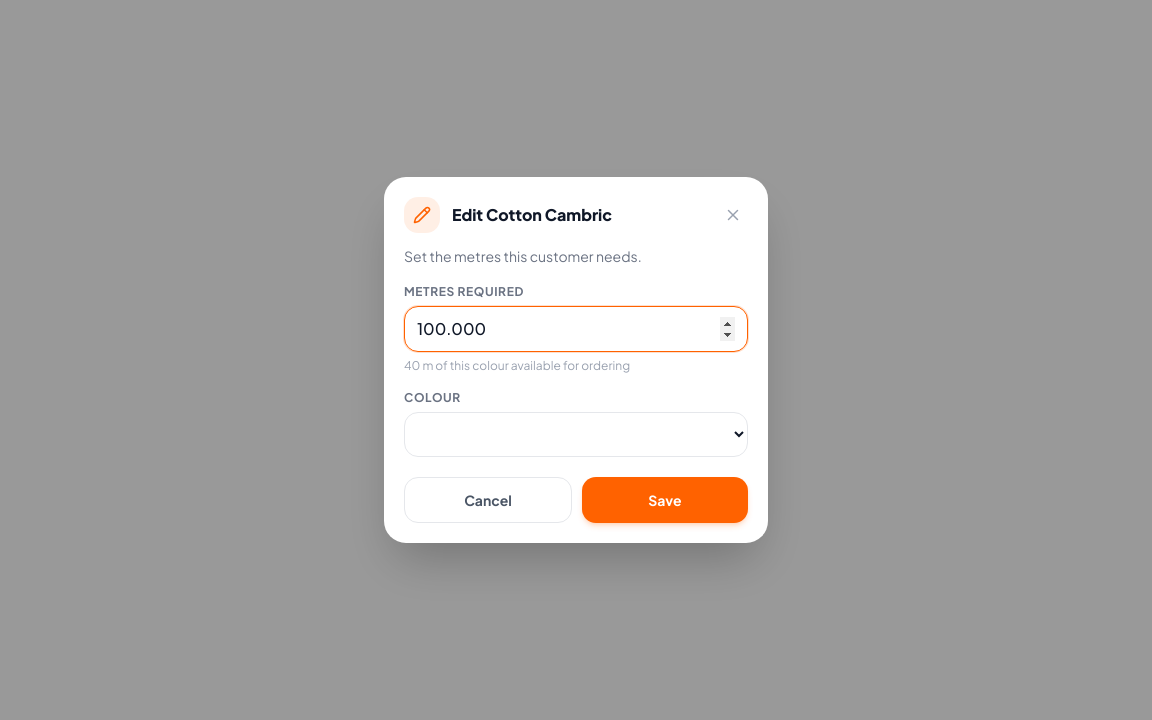
Test: order form availability warning › warns that the typed quantity takes it negative, without blocking
The image size is (1152, 720).
Replace the text in the number field labelled "Metres required" with "200": coordinates (576, 329) [404,306,748,352]
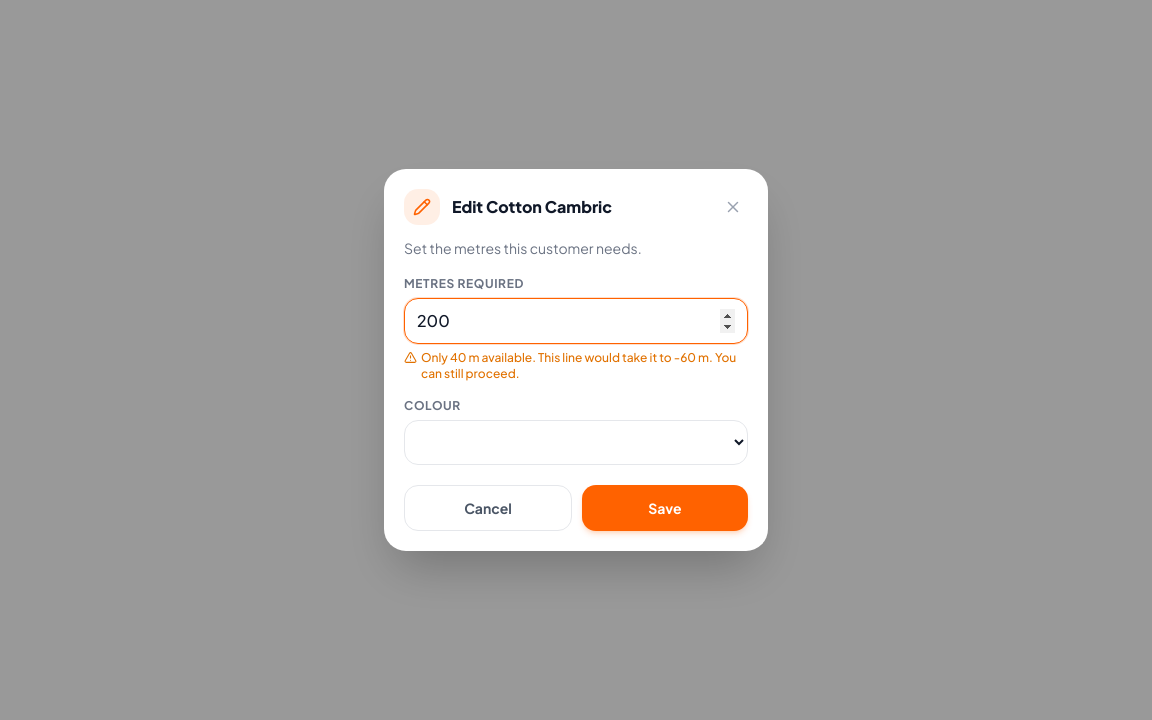
Check: the text "Only 40 m available" is shown, box [421,350,538,365]
Check: the text "You can still proceed" is shown, box [421,350,736,381]
